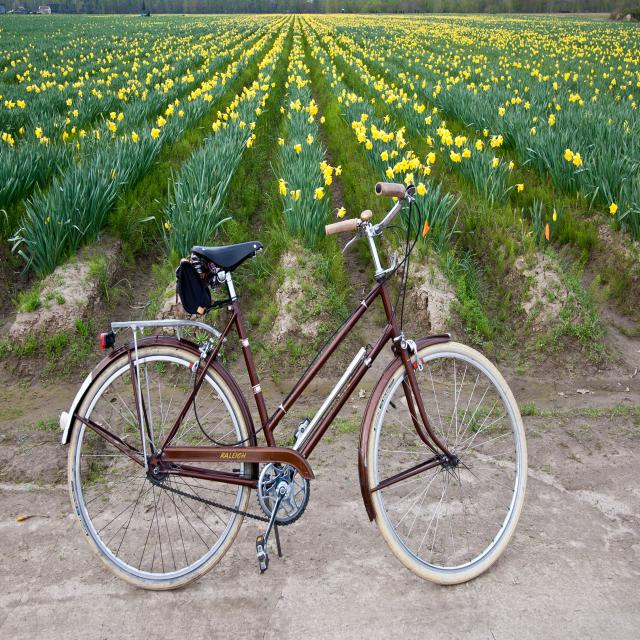urban-bike: (53, 182, 530, 594)
